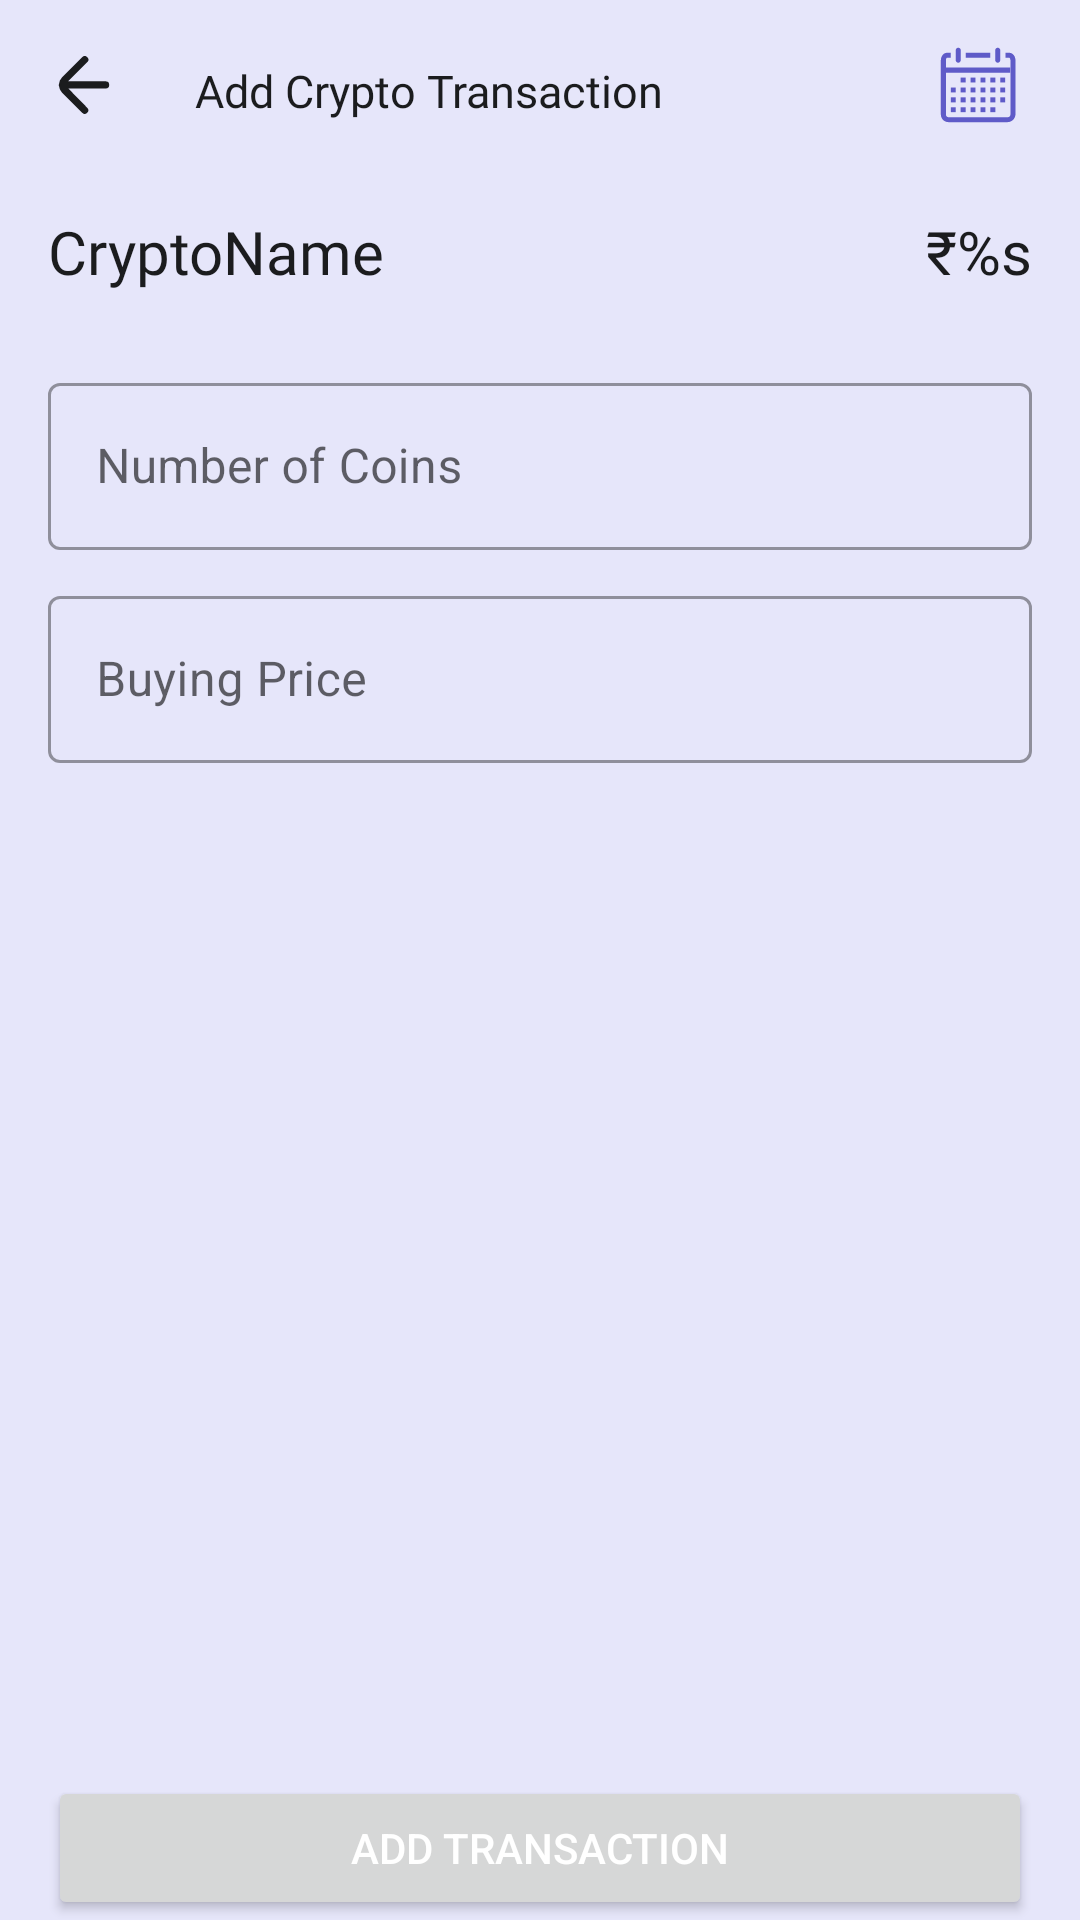

Where to tap for icons on this 1080x1920 app screen, as (x,y):
back arrow: (84,85)
calender: (978,85)
